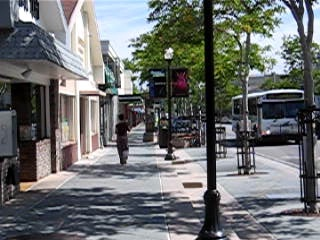person: (115, 112, 132, 165), (114, 112, 131, 165), (116, 112, 133, 165), (115, 111, 132, 164), (115, 113, 132, 166)
target_negative: (62, 2, 263, 165), (82, 39, 254, 222), (226, 38, 296, 201), (213, 140, 269, 237), (260, 116, 307, 207), (16, 99, 70, 103)
